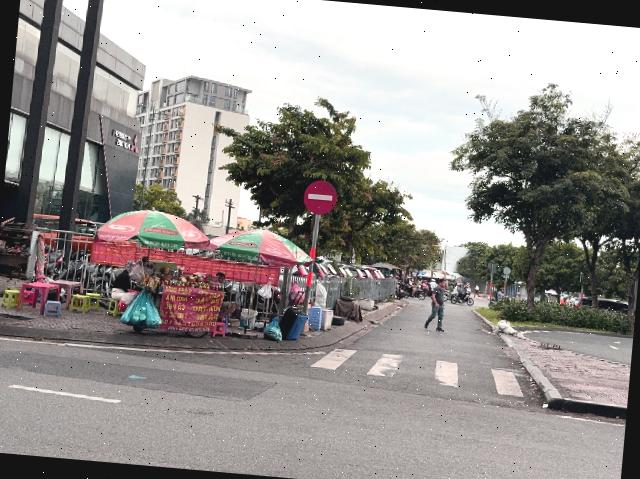cam-di-nguoc-chieu: (302, 179, 338, 216)
